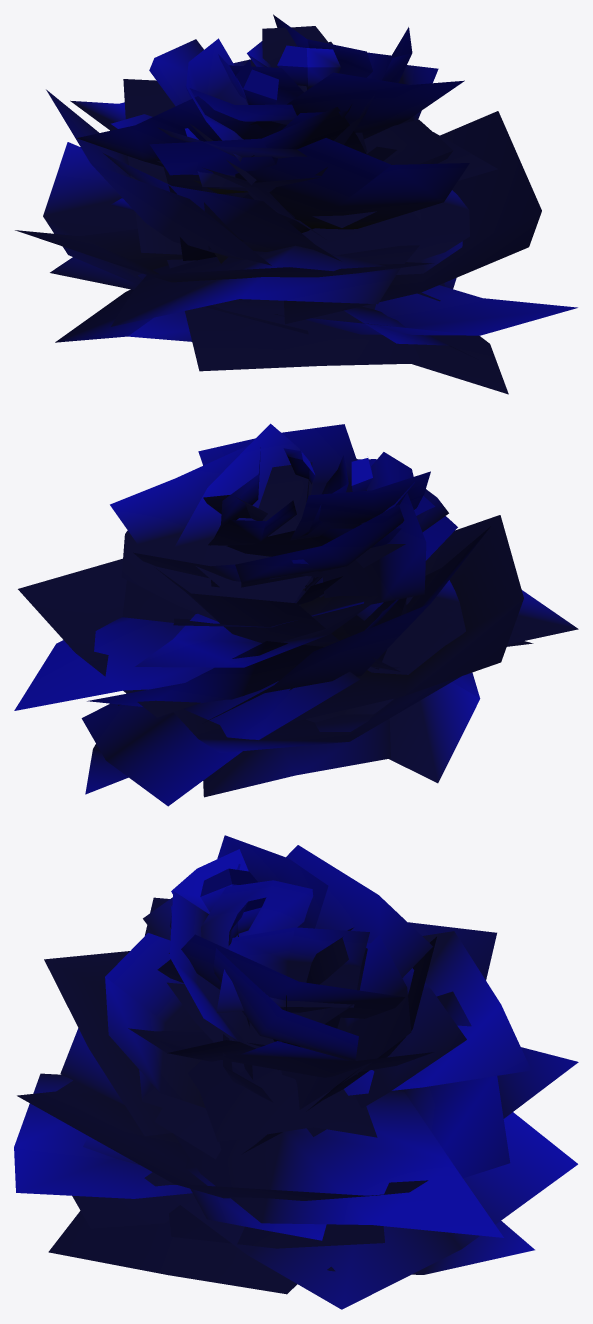
Rendered from SM_Foliage_ShrubA_05.fbx.
3 views of the same model, one above another, from view 1: azimuth 30°, elevation 25°; view 2: azimuth 150°, elevation 25°; view 3: azimuth 270°, elevation 25° (orthographic). The views are drawn at different scales.
Parts seen in each view (by area): view 1: SM_Foliage_ShrubA_05; view 2: SM_Foliage_ShrubA_05; view 3: SM_Foliage_ShrubA_05.
Boxes of the visible parts, left/top/right/bottom form: SM_Foliage_ShrubA_05: left=15, top=14, right=577, bottom=394; SM_Foliage_ShrubA_05: left=14, top=423, right=578, bottom=806; SM_Foliage_ShrubA_05: left=14, top=835, right=578, bottom=1309.
Size of the model in its own units: 407 by 389 by 244.
